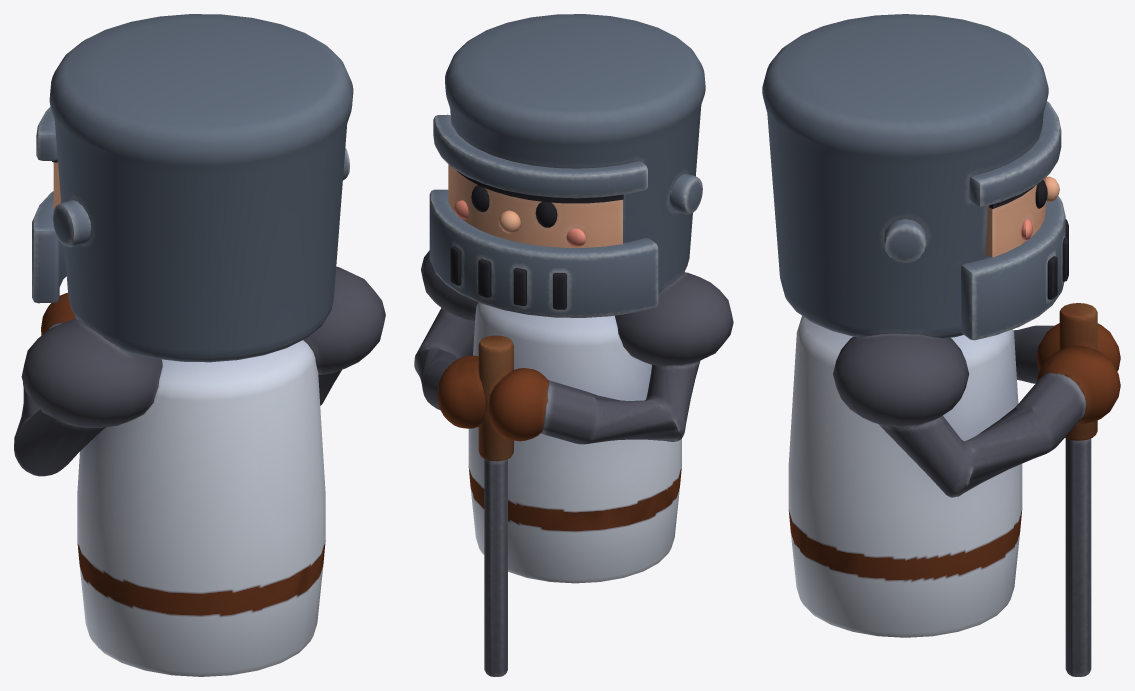
The model's file is knight.glb.
The picture shows the model from 3 angles, left to right: view 1: azimuth 30°, elevation 25°; view 2: azimuth 150°, elevation 25°; view 3: azimuth 270°, elevation 25°; orthographic projection. The views are drawn at different scales.
Parts seen in each view (by area): view 1: knight; view 2: knight; view 3: knight.
Part boxes in pixels (x1=…): knight: x1=14, y1=14, x2=385, y2=676; knight: x1=414, y1=14, x2=733, y2=676; knight: x1=762, y1=14, x2=1120, y2=676.
Bounding box in the file's own units: 0.87 × 1.56 × 0.8289.
8 materials, 8 textured.
